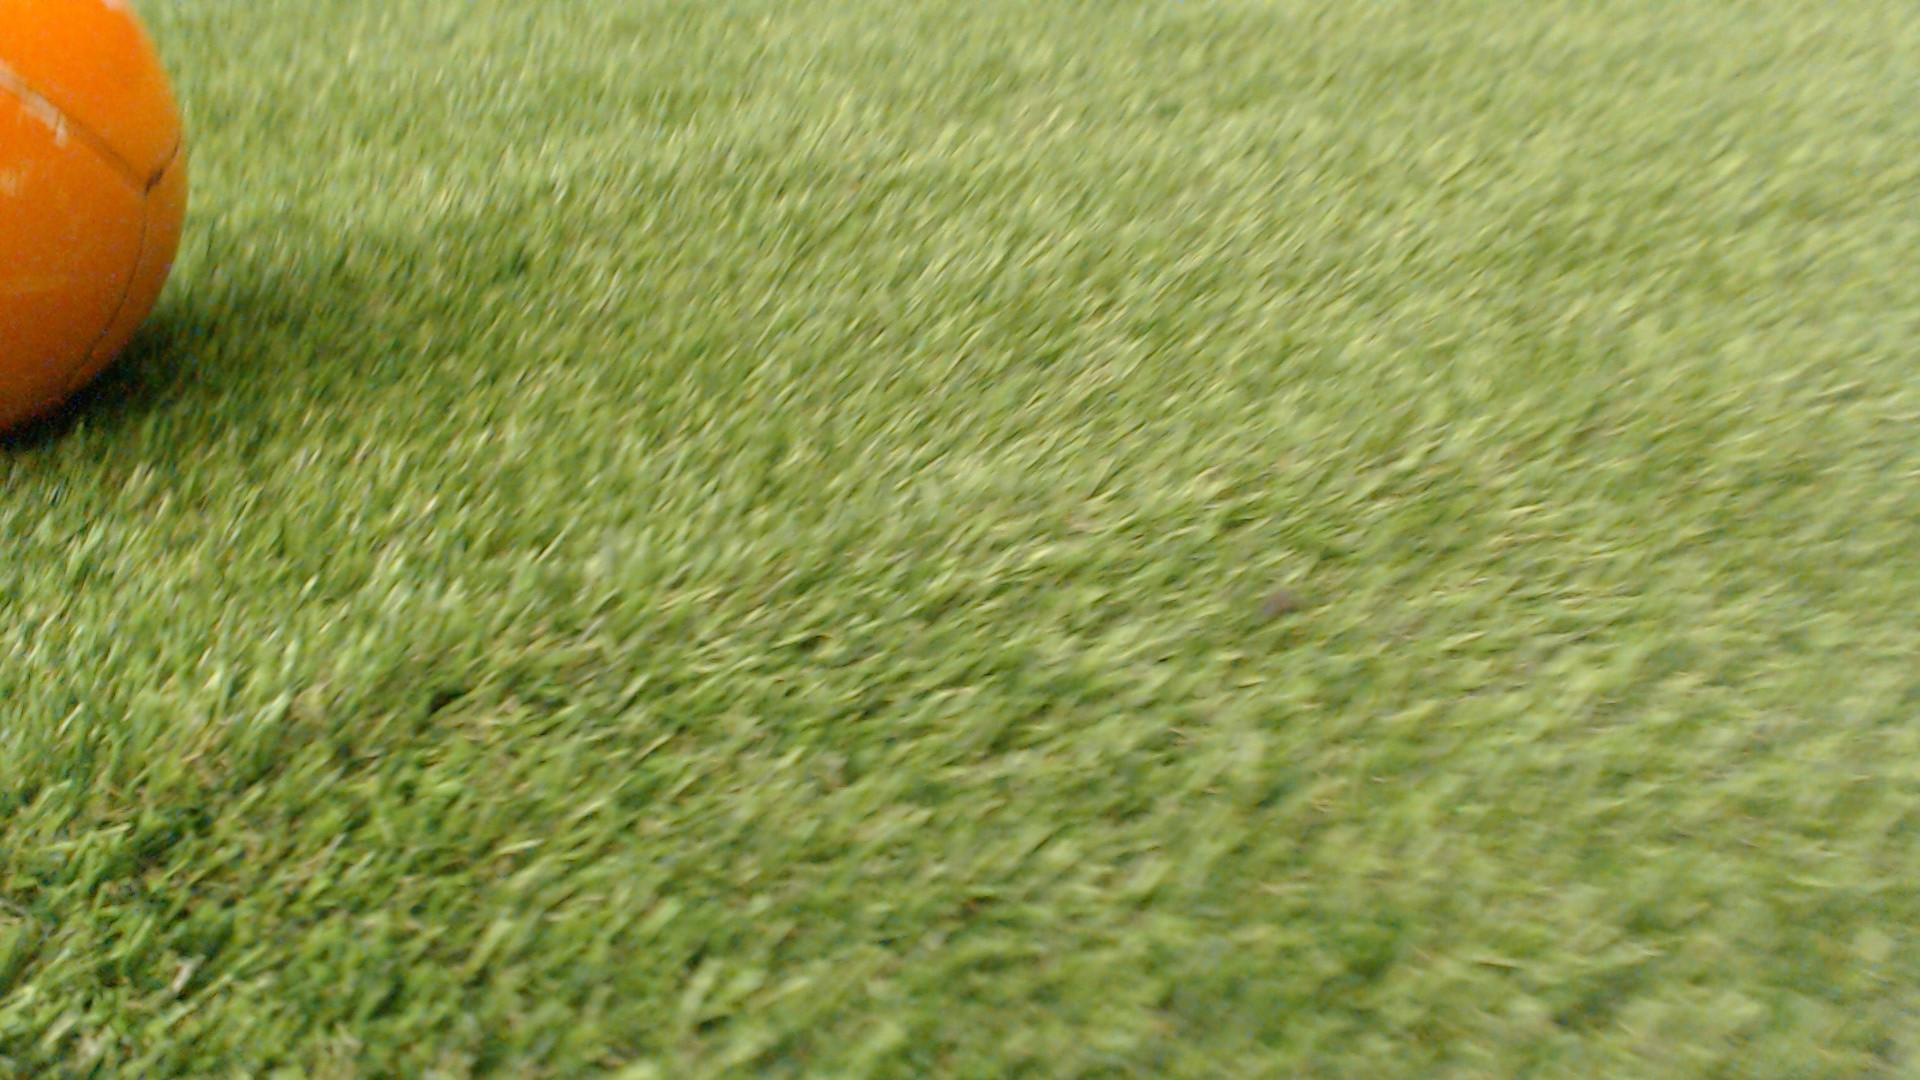bola: (0, 0, 228, 471)
